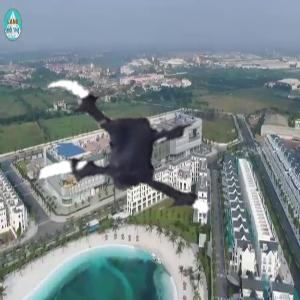drone: (8, 56, 222, 270)
